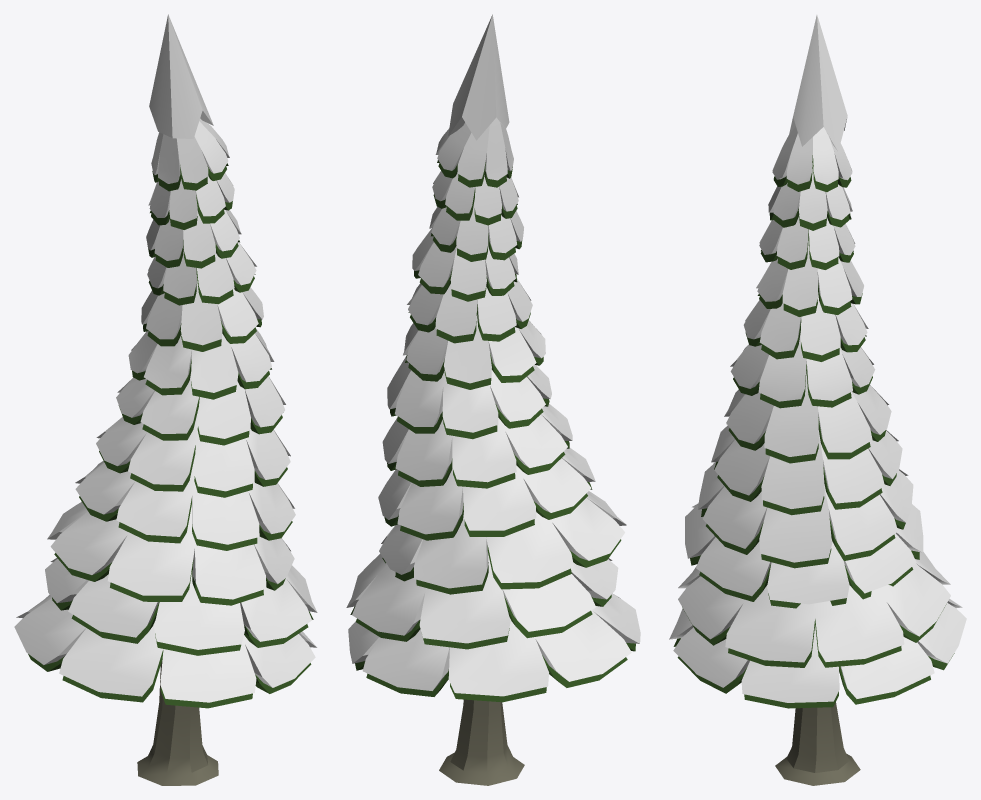
The model's file is blender env assets tree 5.fbx.
3 views of the same model, side by side, from view 1: azimuth 30°, elevation 25°; view 2: azimuth 150°, elevation 25°; view 3: azimuth 270°, elevation 25° (orthographic).
Parts seen in each view (by area): view 1: Cylinder.052; view 2: Cylinder.052; view 3: Cylinder.052.
Part boxes in pixels (x1,y1,x2,y2): Cylinder.052: (14, 14, 317, 785); Cylinder.052: (346, 14, 640, 785); Cylinder.052: (669, 15, 966, 785).
Bounding box in the file's own units: 99.01 × 273 × 98.29.
